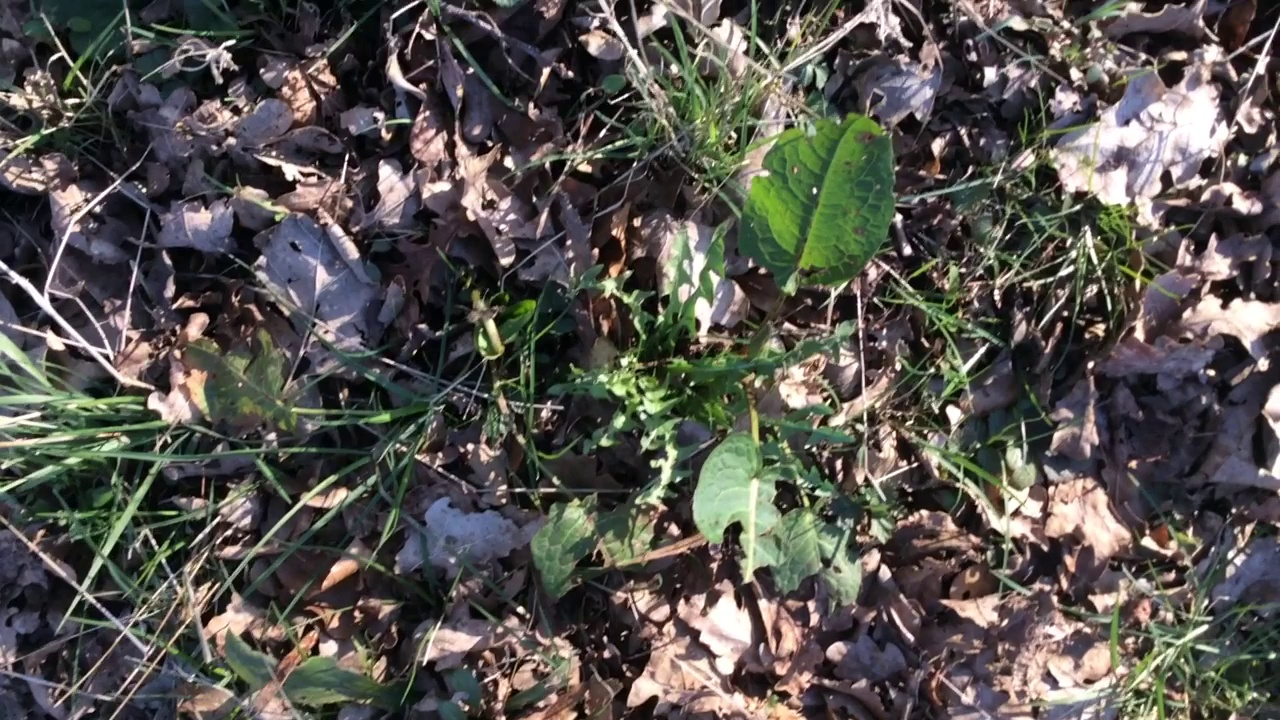rumex: (534, 114, 897, 601)
